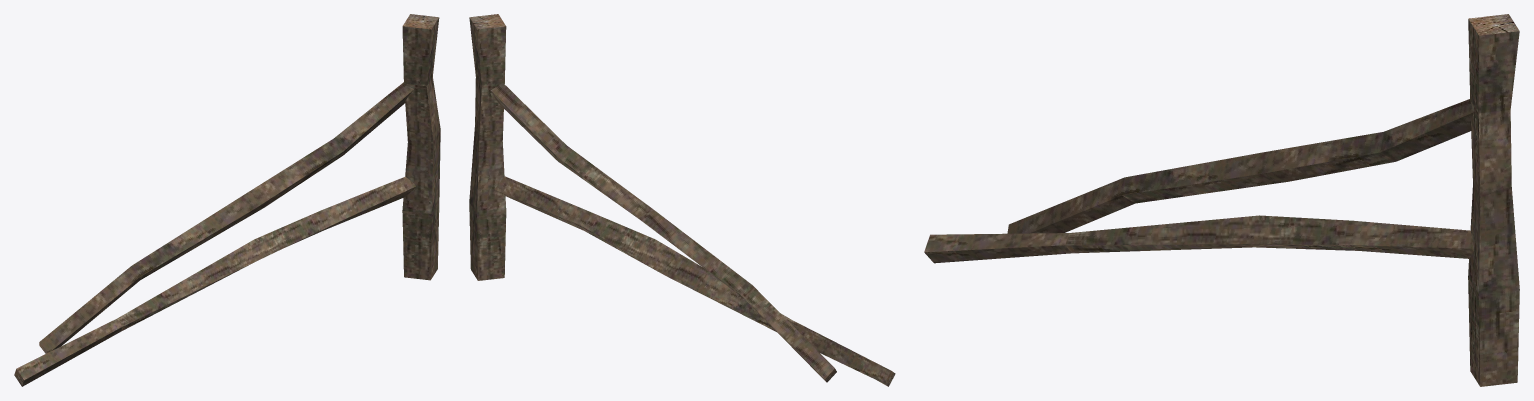
File: lf_wooden_fence_broken.glb
3 renders of one model, left to right at view 1: azimuth 30°, elevation 25°; view 2: azimuth 150°, elevation 25°; view 3: azimuth 330°, elevation 25°, orthographic. The views are drawn at different scales.
Parts seen in each view (by area): view 1: wooden_fence_broken; view 2: wooden_fence_broken; view 3: wooden_fence_broken.
Boxes of the visible parts, x1=… form: wooden_fence_broken: x1=14, y1=14, x2=440, y2=386; wooden_fence_broken: x1=469, y1=14, x2=895, y2=386; wooden_fence_broken: x1=924, y1=14, x2=1519, y2=386.
Bounding box in the file's own units: 2.11 × 1.27 × 0.2923.
1 material, 1 textured.
